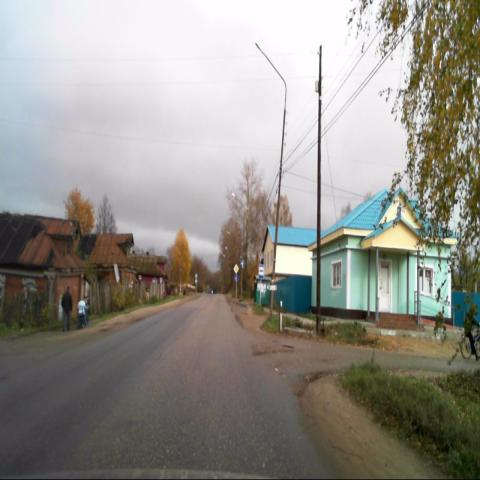5_16: (258, 263, 264, 279)
